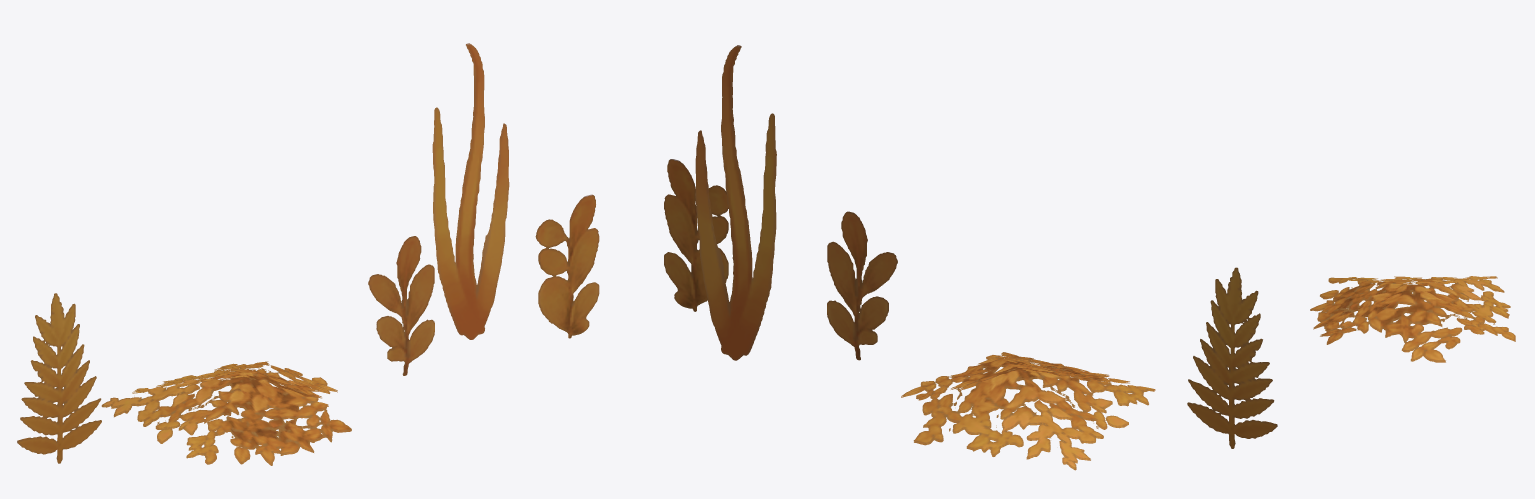
Rendered from bl_cao.FBX.
3 renders of one model, left to right at view 1: azimuth 30°, elevation 25°; view 2: azimuth 150°, elevation 25°; view 3: azimuth 270°, elevation 25°, orthographic. The views are drawn at different scales.
Parts seen in each view (by area): view 1: bl_cao05, bl_cao01, bl_cao04, bl_cao02, bl_cao03; view 2: bl_cao05, bl_cao01, bl_cao04, bl_cao03, bl_cao02; view 3: bl_cao05.
Part boxes in pixels (box(x1,y1,x2,y2)): bl_cao05: box(101, 361, 351, 465); bl_cao01: box(432, 43, 509, 339); bl_cao04: box(17, 293, 101, 463); bl_cao02: box(535, 194, 599, 338); bl_cao03: box(368, 236, 434, 375); bl_cao05: box(901, 352, 1155, 470); bl_cao01: box(695, 45, 776, 360); bl_cao04: box(1187, 267, 1277, 448); bl_cao03: box(827, 211, 897, 360); bl_cao02: box(664, 159, 728, 311); bl_cao05: box(1310, 276, 1515, 362).
Size of the model in its own units: 196 by 98.74 by 64.72.
